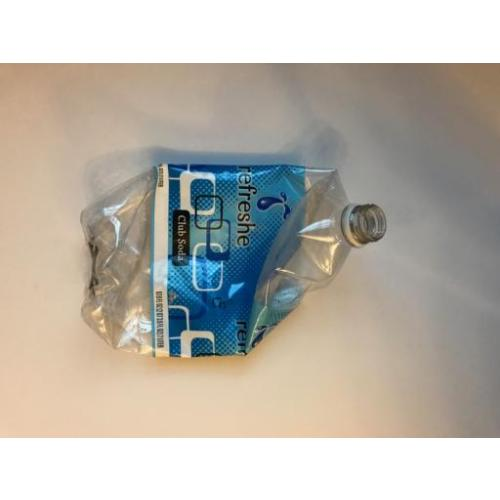plastic: (82, 162, 388, 354)
